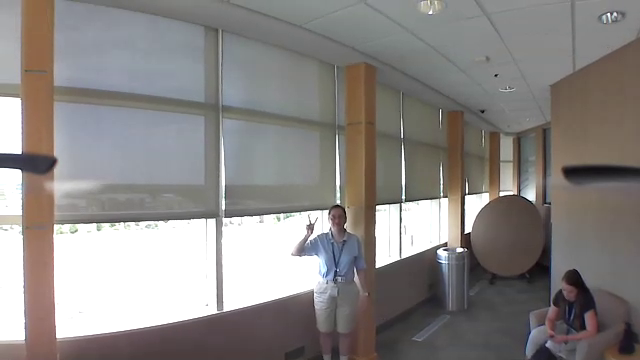peace: (304, 212, 323, 240)
